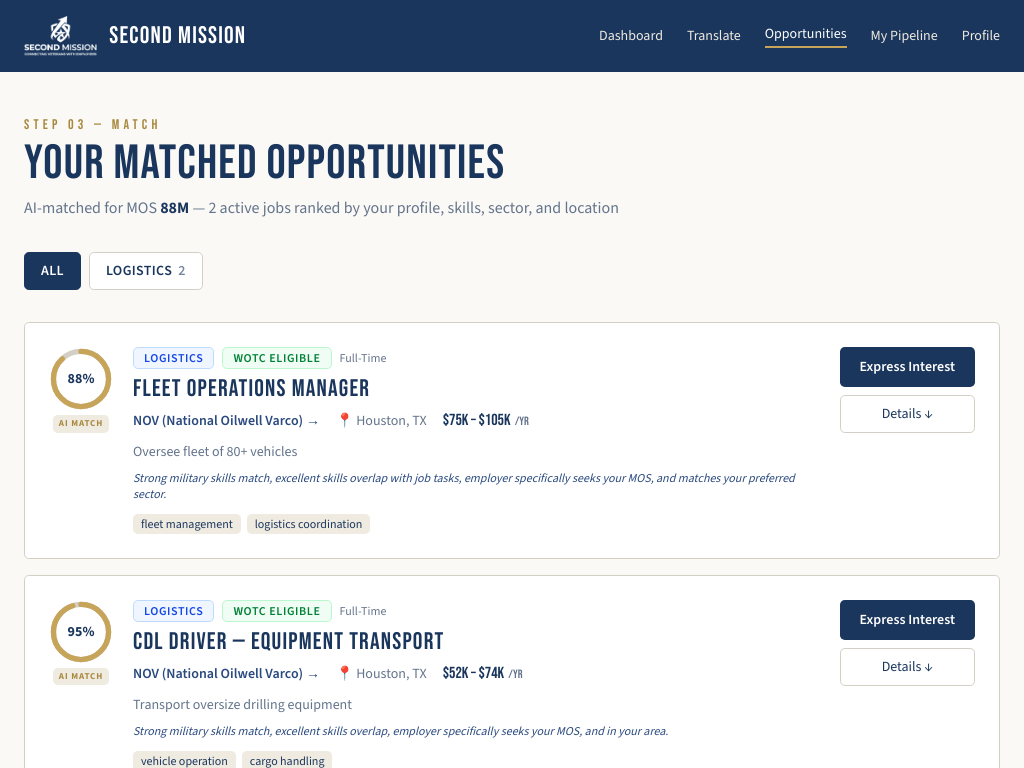
Scenario: OpportunitiesPage › shows score breakdown panel when details expanded
Expected: the heading "Fleet Operations Manager" is shown, [133, 374, 370, 403]
# Click details on first opportunity
Click the button "Details ↓" in the row of "$105K". click: {"x": 907, "y": 414}
box: [840, 395, 975, 433]
(page scrolled)
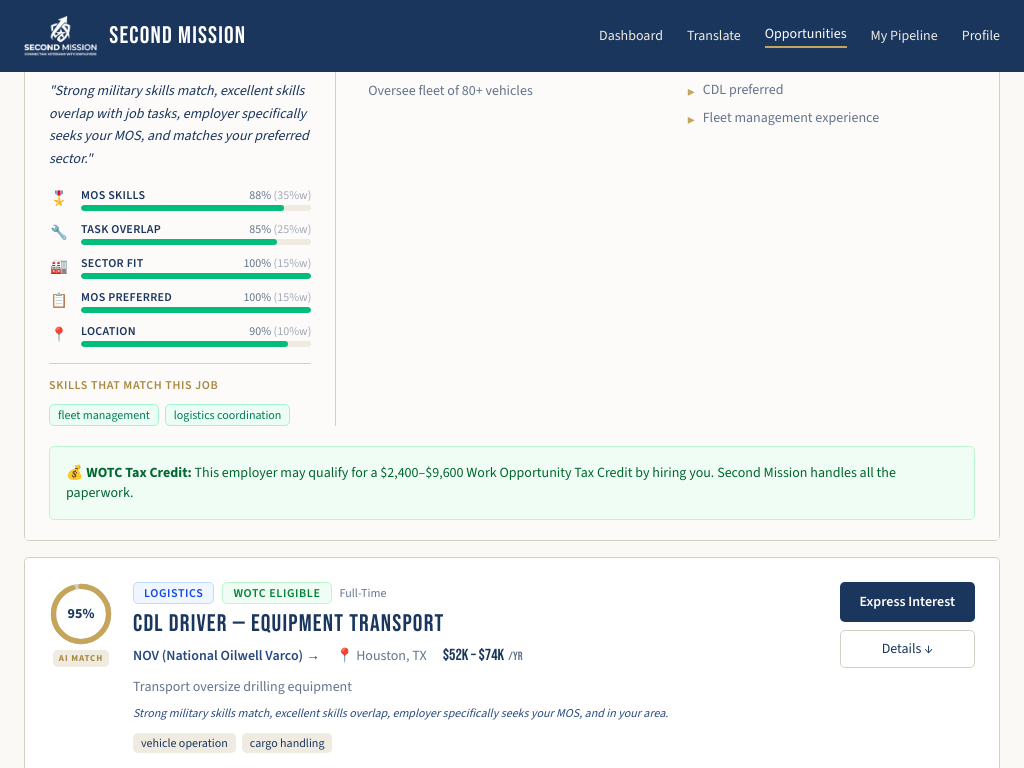
Expected: the text "MOS SKILLS" is shown, [81, 187, 145, 203]
Expected: the text "TASK OVERLAP" is shown, [81, 221, 161, 237]
Expected: the text "SECTOR FIT" is shown, [81, 255, 144, 271]
